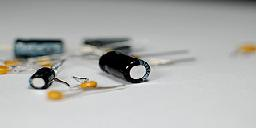Electrolytic-Capacitor: (99, 47, 154, 85), (29, 63, 58, 91), (66, 72, 97, 92)
